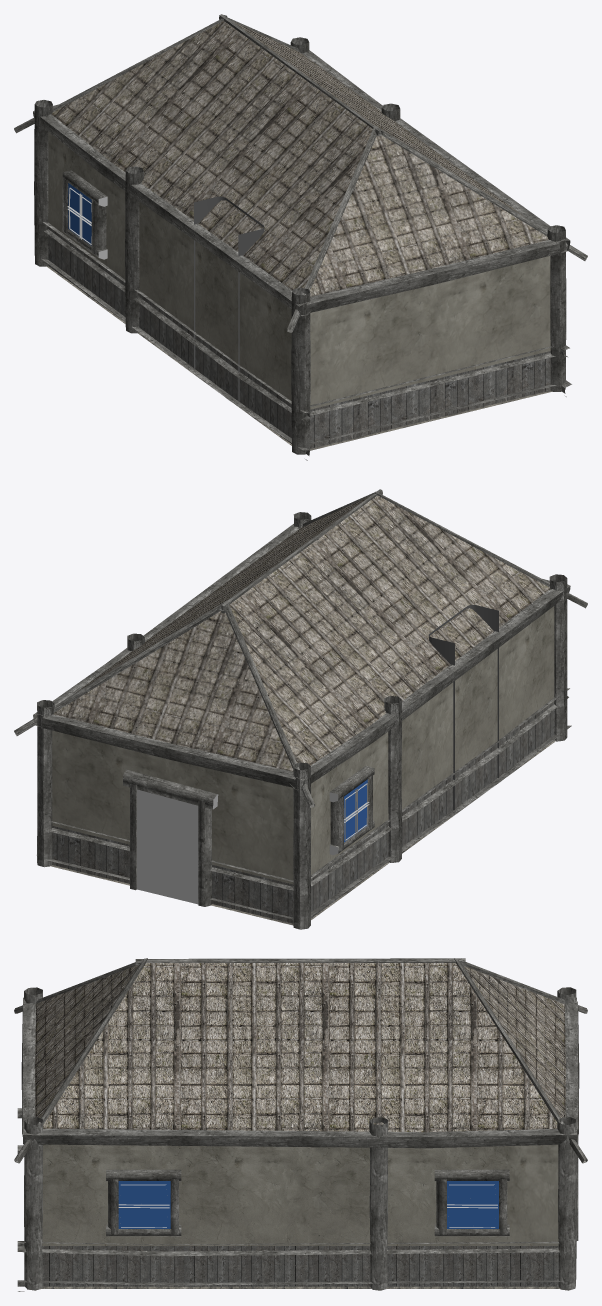
File: mw_type_3_cottage_02_int.FBX
3 views of the same model, one above another, from view 1: azimuth 30°, elevation 25°; view 2: azimuth 150°, elevation 25°; view 3: azimuth 270°, elevation 25° (orthographic). The views are drawn at different scales.
Parts seen in each view (by area): view 1: mw_type_3_cottage_01_roof, mw_type_3_cottage_01_wood, mw_type_3_cottage_01_walls, mw_type_3_cottage_01_stone, mw_type_3_cottage_01_int; view 2: mw_type_3_cottage_01_roof, mw_type_3_cottage_01_wood, mw_type_3_cottage_01_walls, mw_type_3_cottage_01_int, mw_type_3_cottage_01_stone; view 3: mw_type_3_cottage_01_roof, mw_type_3_cottage_01_wood, mw_type_3_cottage_01_walls, mw_type_3_cottage_01_int.
Part boxes in pixels (x1=…): mw_type_3_cottage_01_roof: x1=52, y1=21, x2=548, y2=296; mw_type_3_cottage_01_wood: x1=14, y1=14, x2=587, y2=460; mw_type_3_cottage_01_walls: x1=48, y1=132, x2=550, y2=409; mw_type_3_cottage_01_stone: x1=194, y1=196, x2=264, y2=402; mw_type_3_cottage_01_int: x1=67, y1=183, x2=91, y2=245; mw_type_3_cottage_01_roof: x1=53, y1=495, x2=550, y2=771; mw_type_3_cottage_01_wood: x1=14, y1=489, x2=587, y2=929; mw_type_3_cottage_01_walls: x1=52, y1=606, x2=554, y2=884; mw_type_3_cottage_01_int: x1=137, y1=779, x2=369, y2=904; mw_type_3_cottage_01_stone: x1=429, y1=604, x2=498, y2=809; mw_type_3_cottage_01_roof: x1=35, y1=963, x2=565, y2=1132; mw_type_3_cottage_01_wood: x1=14, y1=958, x2=587, y2=1291; mw_type_3_cottage_01_walls: x1=42, y1=1144, x2=558, y2=1245; mw_type_3_cottage_01_int: x1=118, y1=1181, x2=498, y2=1228.
Size of the model in its own units: 782 by 641 by 1244.
